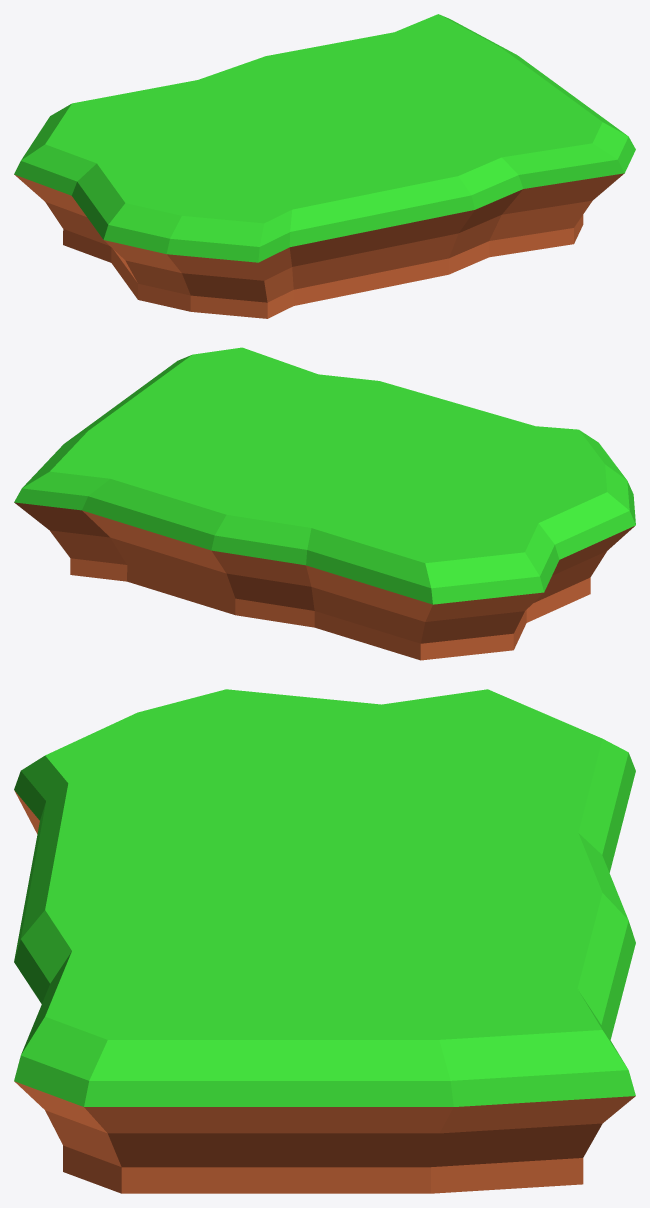
Rendered from terrant2.fbx.
The picture shows the model from 3 angles, top to bottom: view 1: azimuth 30°, elevation 25°; view 2: azimuth 150°, elevation 25°; view 3: azimuth 270°, elevation 25°; orthographic projection. The views are drawn at different scales.
Parts seen in each view (by area): view 1: Plane.001; view 2: Plane.001; view 3: Plane.001.
Part boxes in pixels (box(x1,y1,x2,y2)): Plane.001: box(14, 14, 635, 318); Plane.001: box(14, 347, 635, 660); Plane.001: box(14, 689, 635, 1193).
Size of the model in its own units: 506 by 99.95 by 340.
